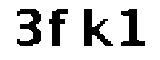1: (117, 4, 149, 51)
3: (10, 3, 43, 52)
f: (48, 8, 72, 49)
k: (81, 5, 115, 52)
